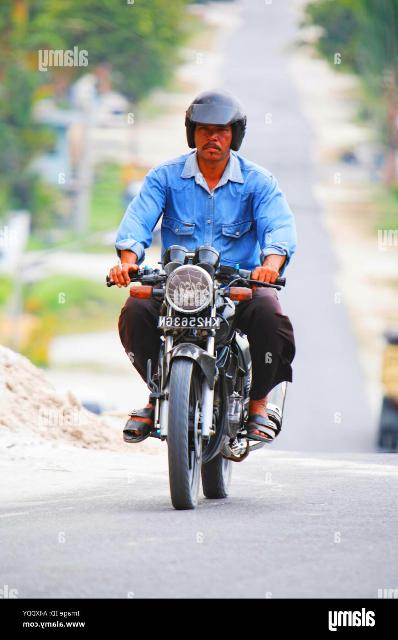helm: (185, 89, 248, 165)
motor: (106, 245, 288, 513)
